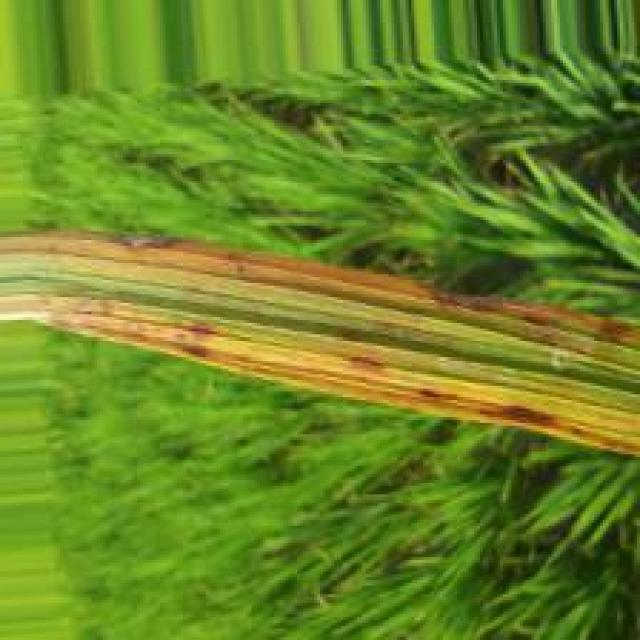Narrow_Brown_Leaf_Spot: (0, 291, 638, 450), (262, 260, 636, 352), (95, 233, 178, 257)
